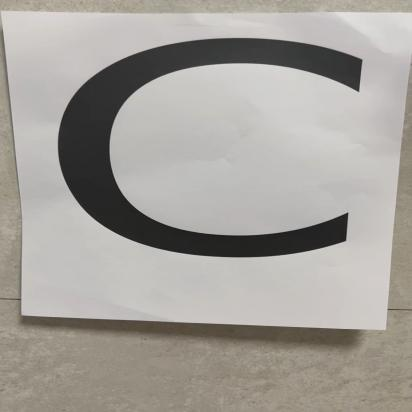seat: (31, 19, 388, 314)
